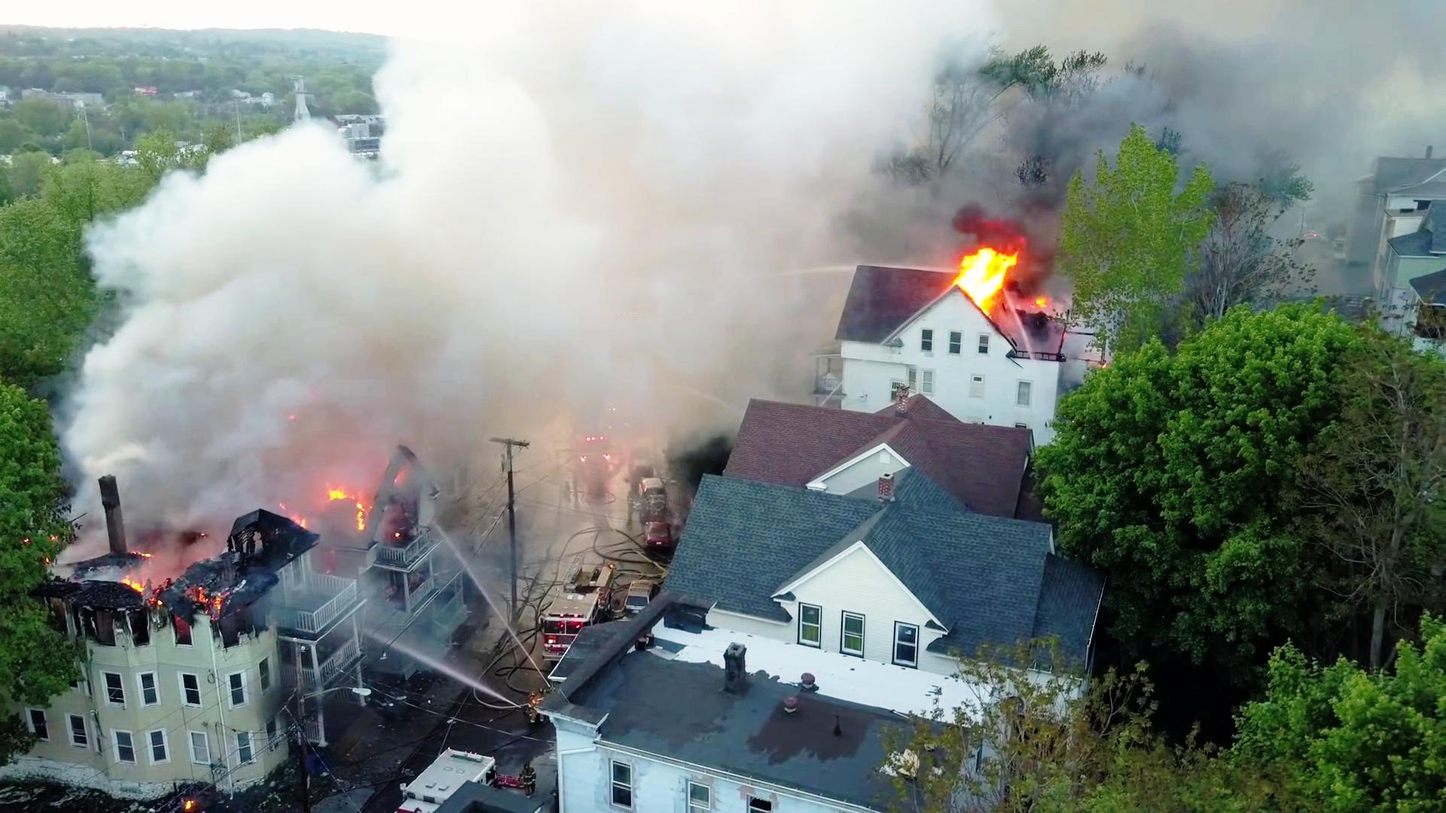fire: (953, 243, 1017, 323)
smoke: (238, 147, 746, 393)
